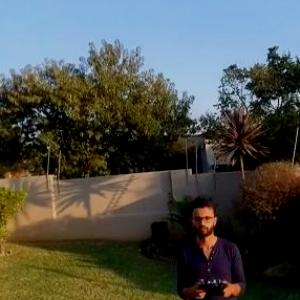follow: (173, 193, 251, 299)
